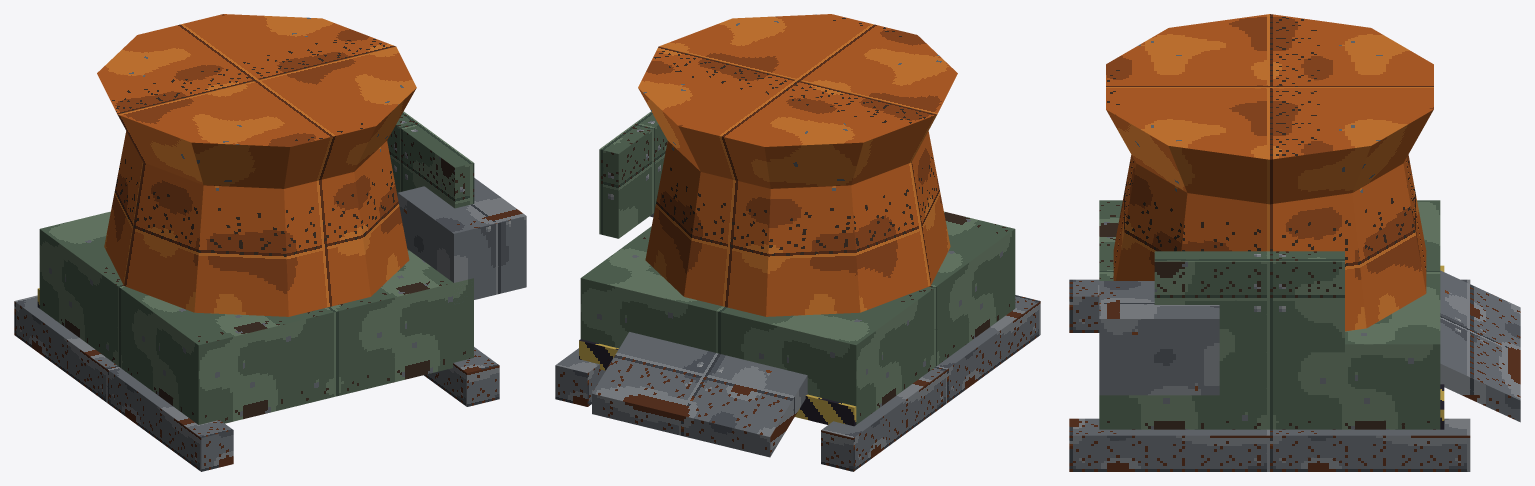
File: machinery__cone_crusher.glb
3 views of the same model, side by side, from view 1: azimuth 30°, elevation 25°; view 2: azimuth 150°, elevation 25°; view 3: azimuth 270°, elevation 25° (orthographic). The views are drawn at different scales.
Visible parts, largest first — view 1: _MeshInstance3D_20, _MeshInstance3D_19, _MeshInstance3D_18; view 2: _MeshInstance3D_20, _MeshInstance3D_19, _MeshInstance3D_18, _MeshInstance3D_21; view 3: _MeshInstance3D_20, _MeshInstance3D_19, _MeshInstance3D_18.
Boxes of the visible parts, x1,y1,x2,y2 form: _MeshInstance3D_20: (97,14,416,316); _MeshInstance3D_19: (39,111,474,424); _MeshInstance3D_18: (14,178,526,471); _MeshInstance3D_20: (638,14,957,316); _MeshInstance3D_19: (580,111,1015,424); _MeshInstance3D_18: (555,213,1040,471); _MeshInstance3D_21: (579,339,856,426); _MeshInstance3D_20: (1106,14,1433,331); _MeshInstance3D_19: (1099,200,1440,429); _MeshInstance3D_18: (1069,270,1520,471).
Bounding box in the file's own units: 2.09 × 1.69 × 2.25.
4 materials, 4 textured.
